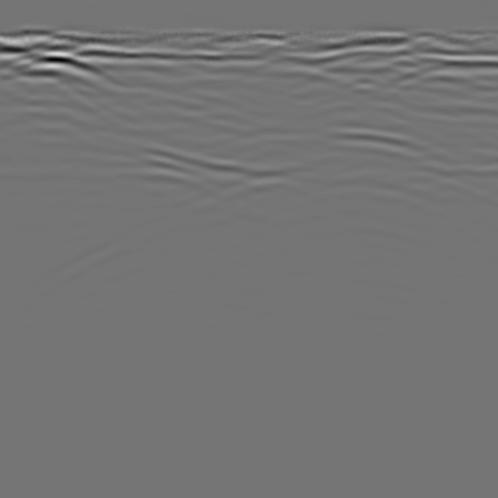hyperbola: (219, 114, 474, 219)
